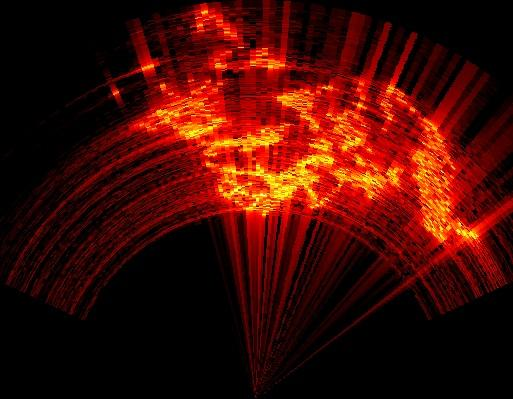shipwreck: (220, 112, 403, 213), (412, 120, 477, 241), (207, 128, 277, 155), (278, 92, 319, 126), (175, 122, 209, 144)
